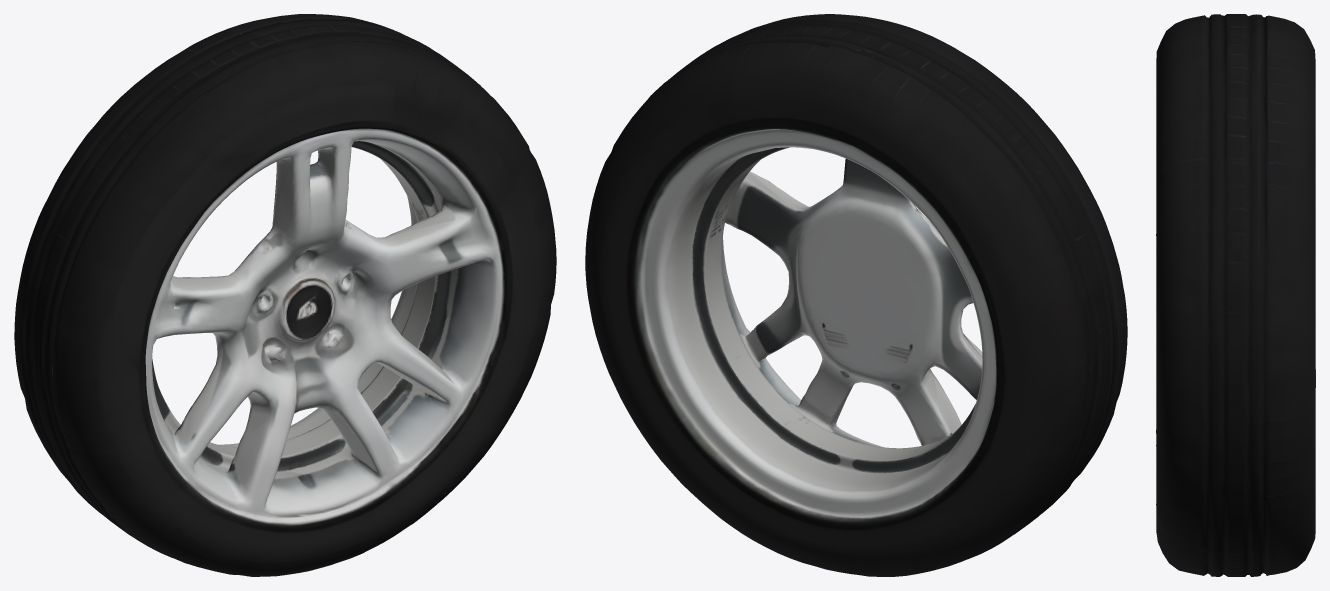
File: 019cbb91-20d3-7af2-834a-ea77d237fccf.glb
3 renders of one model, left to right at view 1: azimuth 30°, elevation 25°; view 2: azimuth 150°, elevation 25°; view 3: azimuth 270°, elevation 25°, orthographic.
Visible parts, largest first — view 1: model; view 2: model; view 3: model.
Boxes of the visible parts, x1,y1,x2,y2 form: model: (14, 14, 556, 576); model: (585, 14, 1127, 576); model: (1156, 14, 1315, 576).
Bounding box in the file's own units: 1.9 × 1.9 × 0.5377.
Materials: 1 (1 with a texture image).
